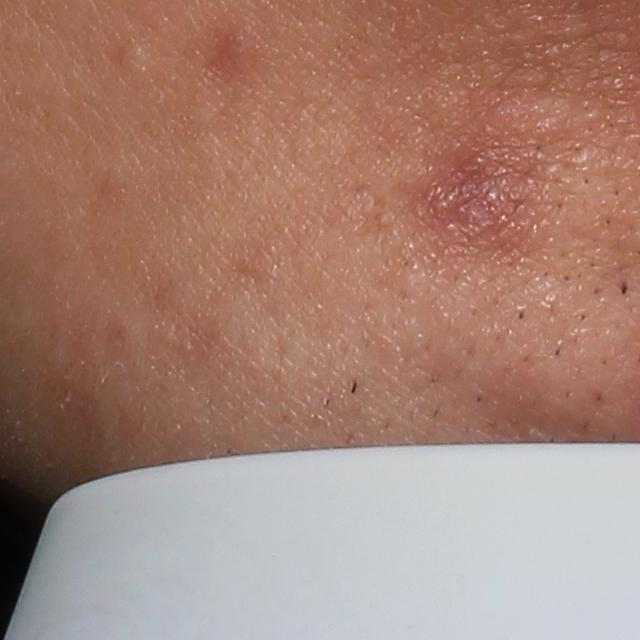comedo: (117, 40, 152, 80)
